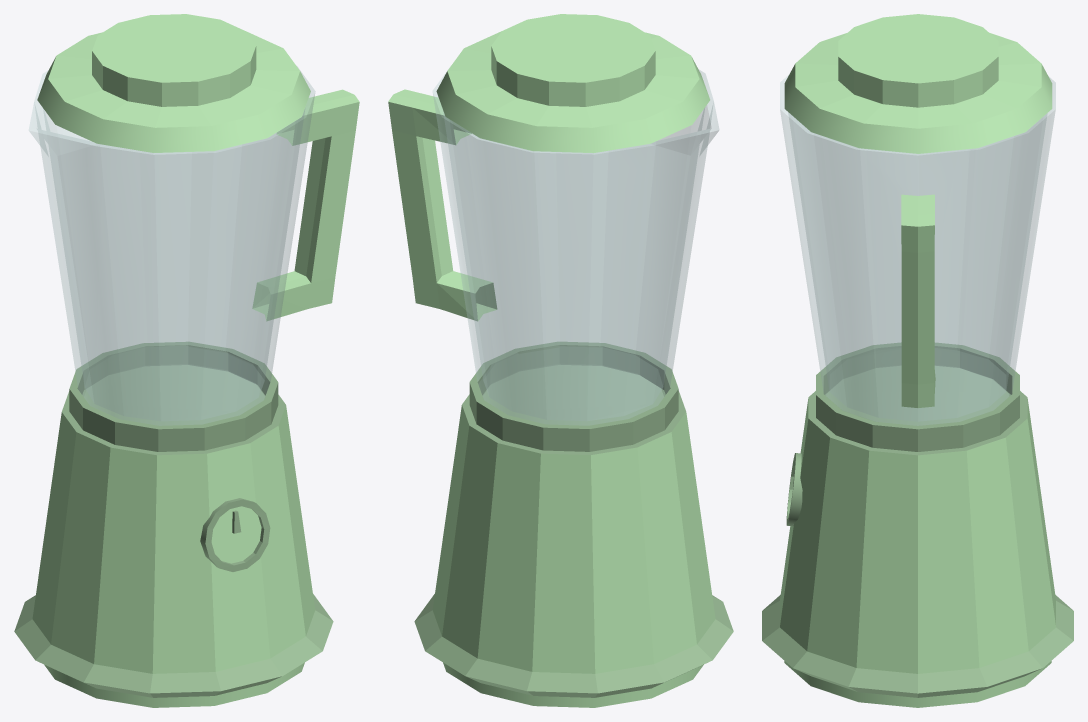
The model's file is f06_blender.FBX.
3 views of the same model, side by side, from view 1: azimuth 30°, elevation 25°; view 2: azimuth 150°, elevation 25°; view 3: azimuth 270°, elevation 25° (orthographic).
Parts seen in each view (by area): view 1: Cylinder001, Cylinder003, Cylinder004, Cylinder002; view 2: Cylinder001, Cylinder003, Cylinder004; view 3: Cylinder001, Cylinder003, Cylinder004, Cylinder002.
Boxes of the visible parts, box(x1,y1,x2,y2) form: Cylinder001: box(14, 342, 333, 707); Cylinder003: box(29, 66, 359, 425); Cylinder004: box(37, 14, 310, 152); Cylinder002: box(200, 498, 270, 571); Cylinder001: box(414, 342, 733, 707); Cylinder003: box(388, 66, 719, 425); Cylinder004: box(436, 14, 710, 153); Cylinder001: box(762, 342, 1073, 707); Cylinder003: box(780, 75, 1055, 425); Cylinder004: box(784, 14, 1052, 153); Cylinder002: box(786, 453, 802, 526).
Size of the model in its own units: 44.96 by 79.29 by 37.26.
